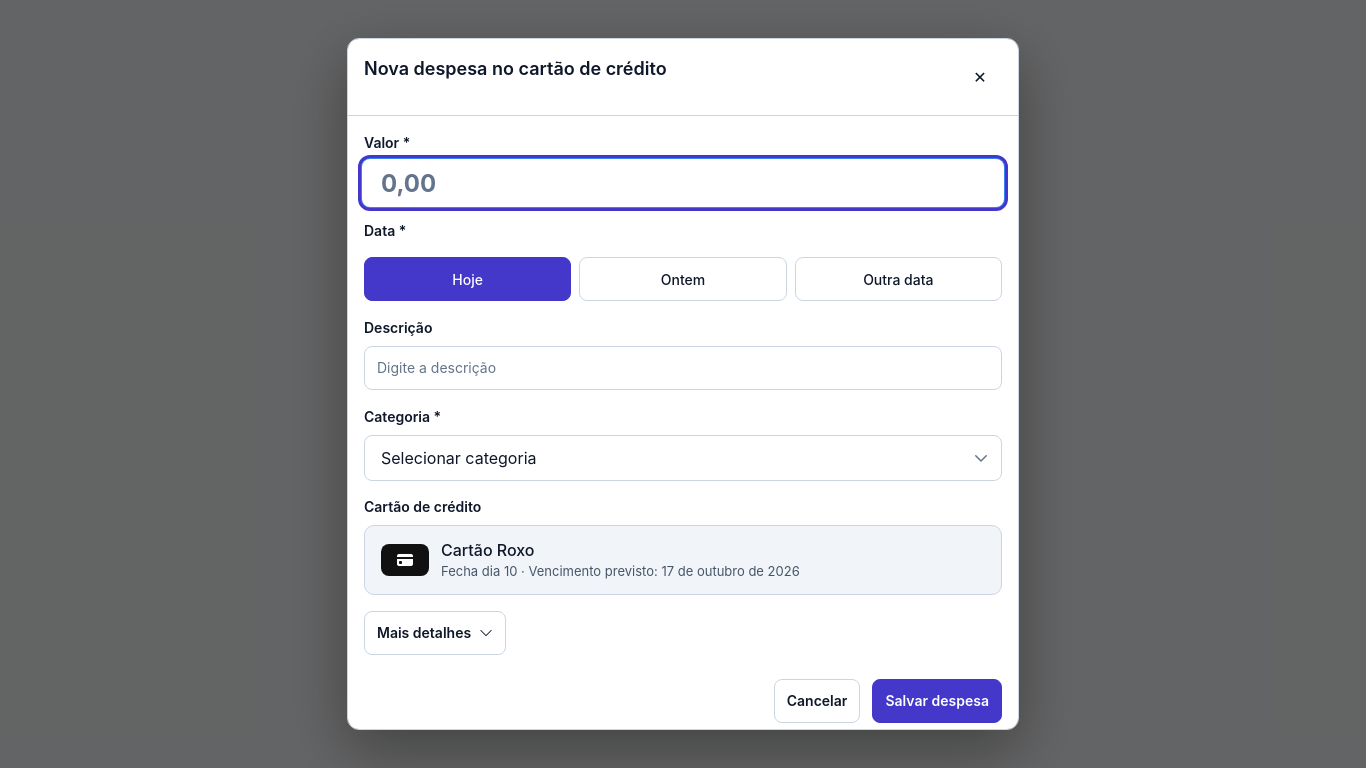
CreditCardExpenseForm › valida valor e categoria antes de enviar
Step 1. Click the button "Salvar despesa" → {"x": 937, "y": 701}, box 872,679 -> 1002,723
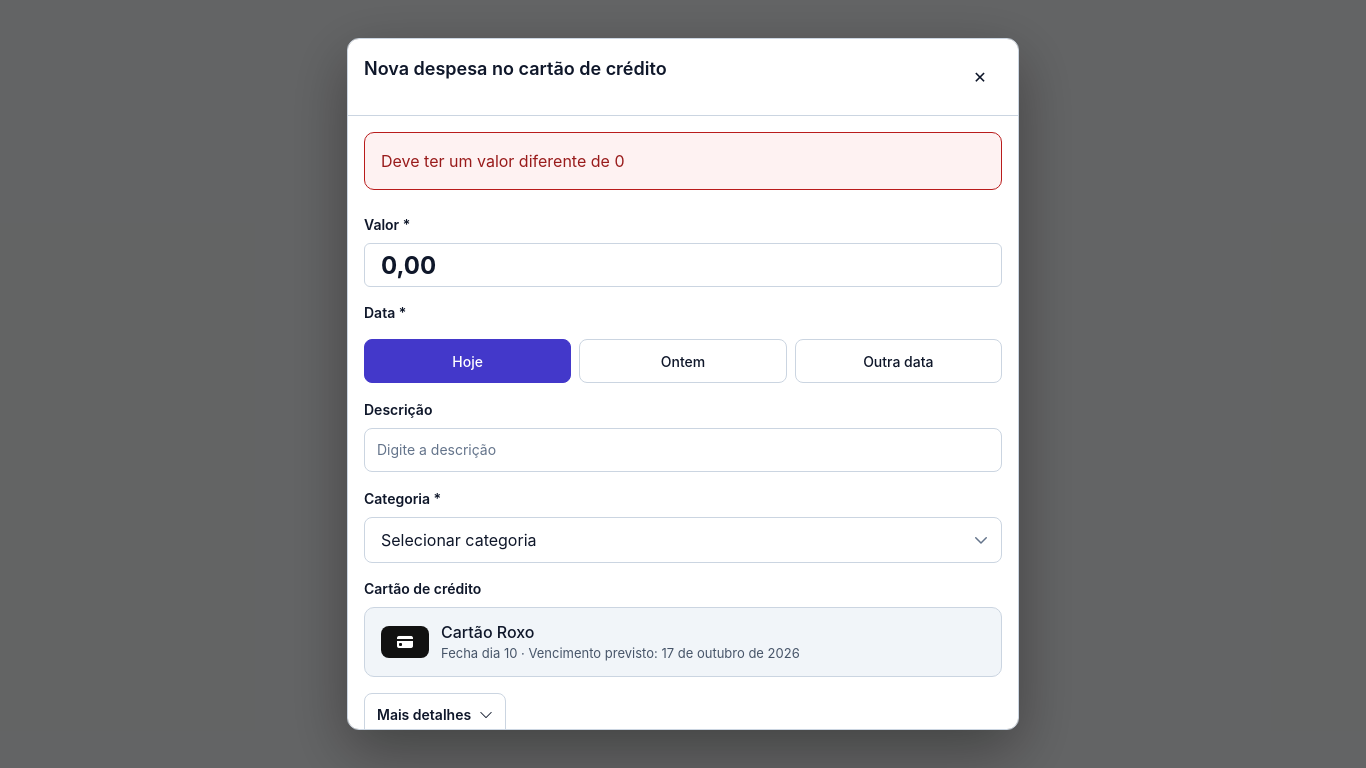
expect the message reads "Deve ter um valor diferente de 0": met, box 381,151 -> 624,171
